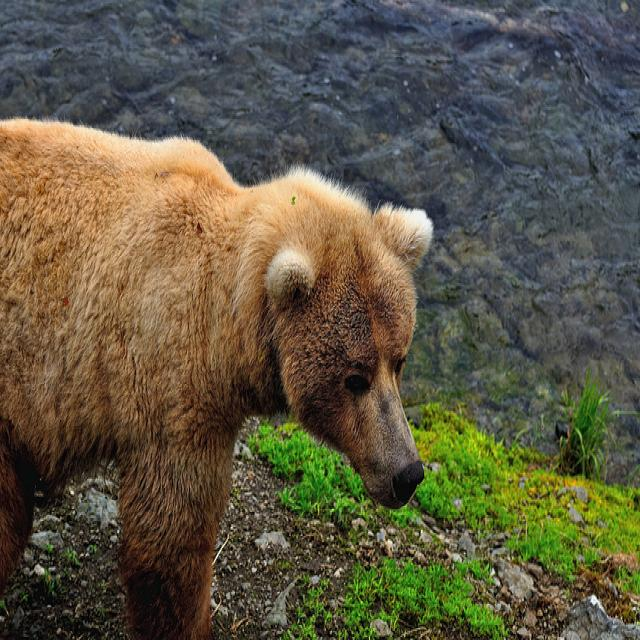Bear: (5, 98, 442, 640)
